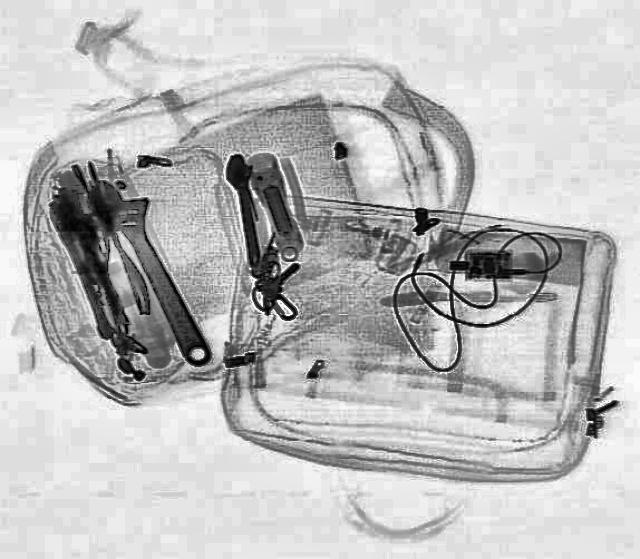Pliers: (76, 203, 154, 321)
Wrench: (76, 168, 238, 370), (220, 151, 268, 267)
